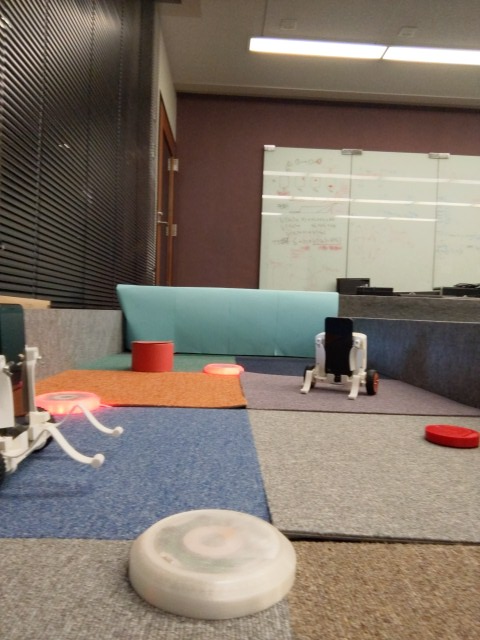br: (1, 295, 126, 486)
f: (297, 314, 381, 403)
o: (126, 504, 299, 622)
r: (32, 387, 102, 417), (200, 358, 245, 380)
